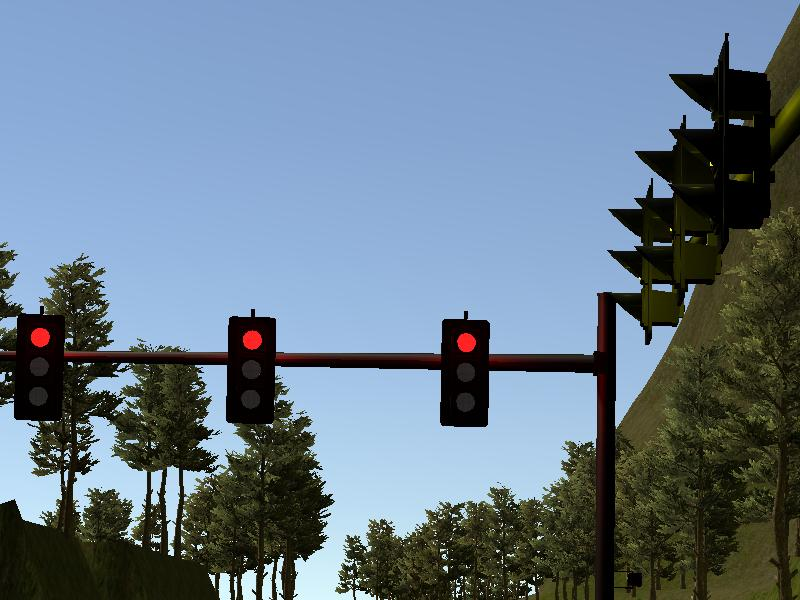Red: (229, 317, 273, 425), (17, 315, 62, 420), (442, 320, 487, 425)
